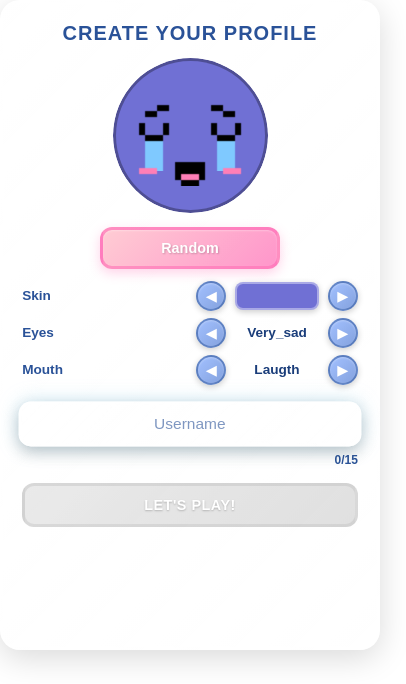
Scenario: ProfileMenu Component › Username Input › should keep only letters and numbers in the username input
Type "  Test_User!42  " into the field at [190, 424], box [19,402,361,447]
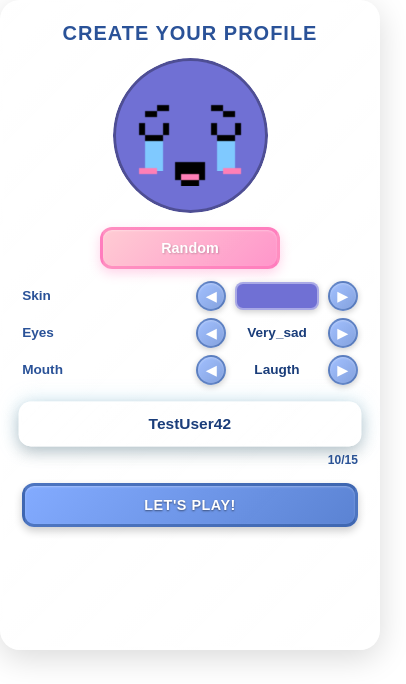
Result: the field holds "TestUser42" at [19,402,361,447]
